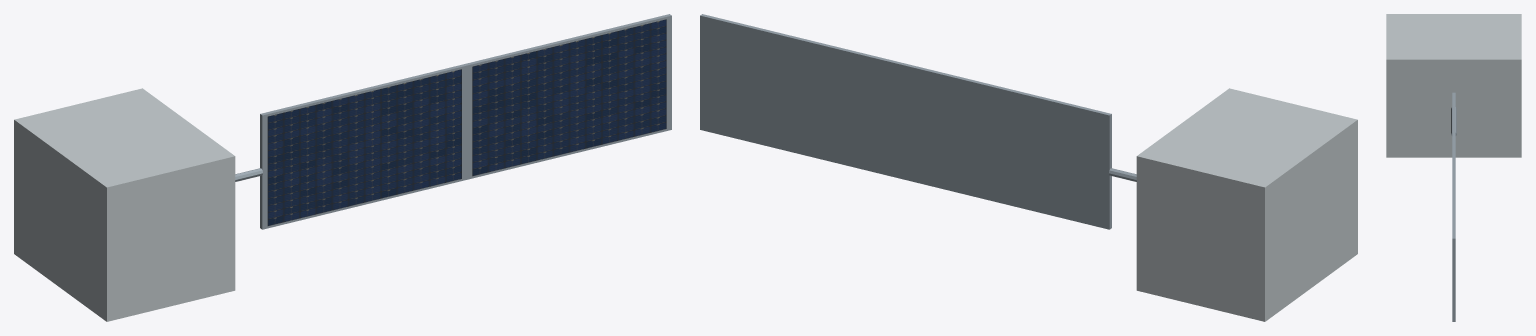
The model's file is ref-adeos-24277.glb.
The picture shows the model from 3 angles, left to right: view 1: azimuth 30°, elevation 25°; view 2: azimuth 150°, elevation 25°; view 3: azimuth 270°, elevation 25°; orthographic projection. The views are drawn at different scales.
Visible parts, largest first — view 1: Photovoltaic laminates (×2), Spacecraft body, Array frame (×2); view 2: Array frame (×2), Spacecraft body; view 3: Spacecraft body, Array frame (×2), Solar array drive.
Boxes of the visible parts, left/top/right/bottom form: Photovoltaic laminates (×2): left=267, top=19, right=666, bottom=225; Spacecraft body: left=14, top=88, right=235, bottom=321; Array frame (×2): left=260, top=14, right=671, bottom=229; Array frame (×2): left=700, top=14, right=1111, bottom=229; Spacecraft body: left=1136, top=88, right=1357, bottom=321; Spacecraft body: left=1386, top=14, right=1521, bottom=157; Array frame (×2): left=1452, top=92, right=1455, bottom=321; Solar array drive: left=1451, top=107, right=1456, bottom=135.
Size of the model in its own units: 19 by 4 by 5.
3 materials, 1 textured.
